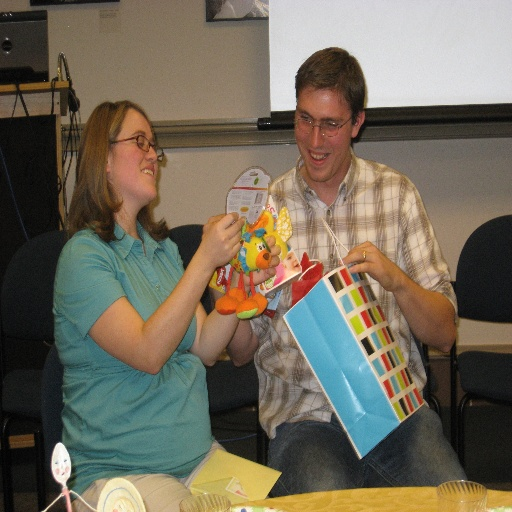hand: (337, 238, 396, 290), (200, 210, 244, 269), (234, 232, 281, 287), (202, 213, 224, 236)
